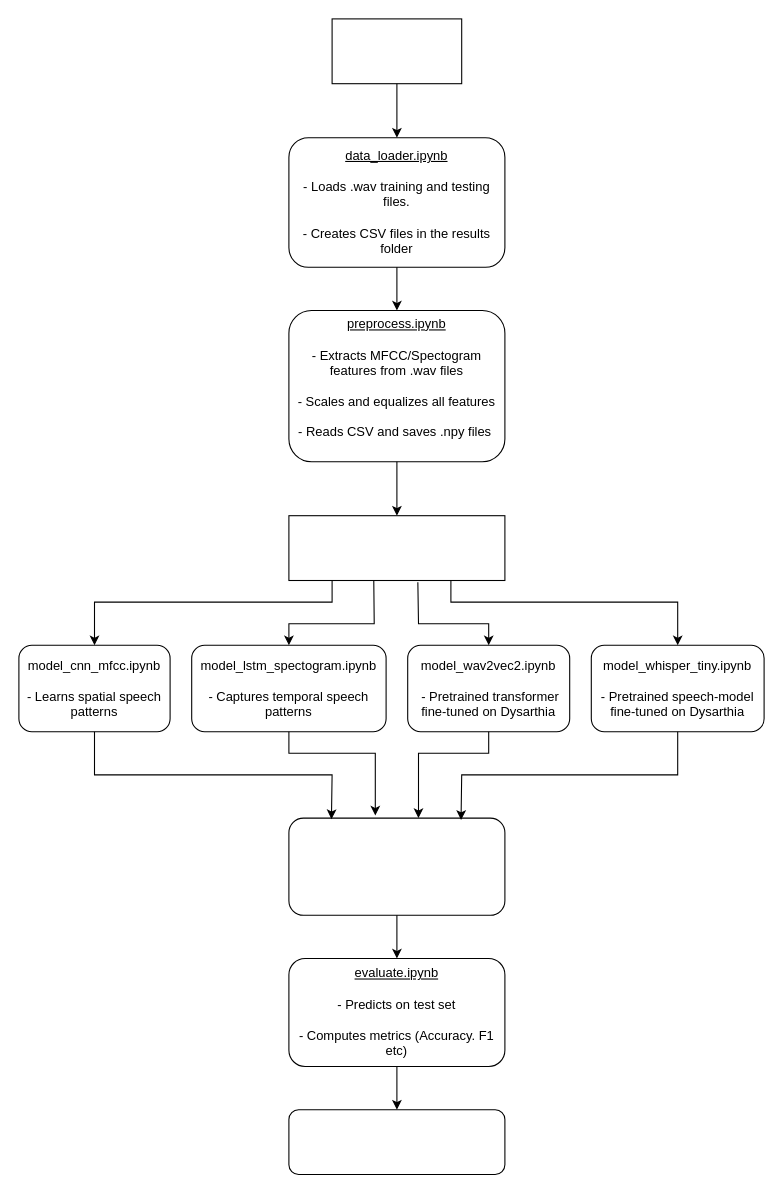
This 783x1193 diagram has some shape labels left out. Each missing label, with the box of its shape:
Audio Dataset: (331, 18, 462, 84)
MODEL BASELINES: (288, 515, 505, 580)
results/plots - Saves metrics and plots: (288, 1109, 505, 1174)
train.ipynb - Trains model - Saves weights: (288, 817, 505, 915)
